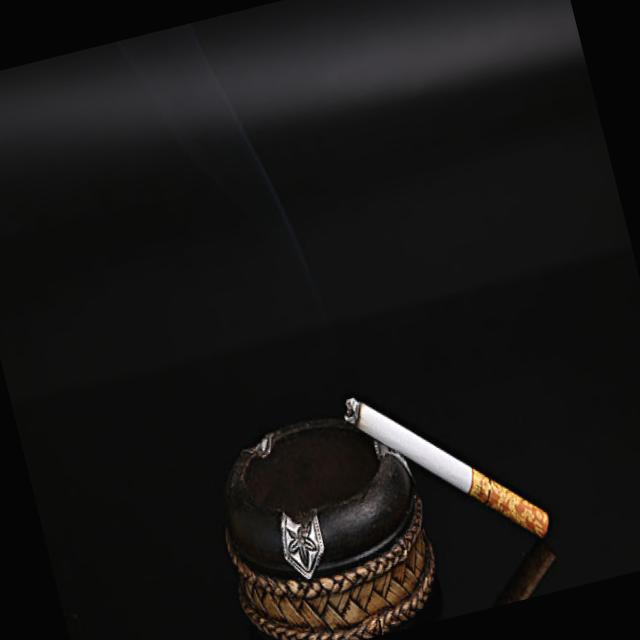smoke: (339, 352, 556, 582)
